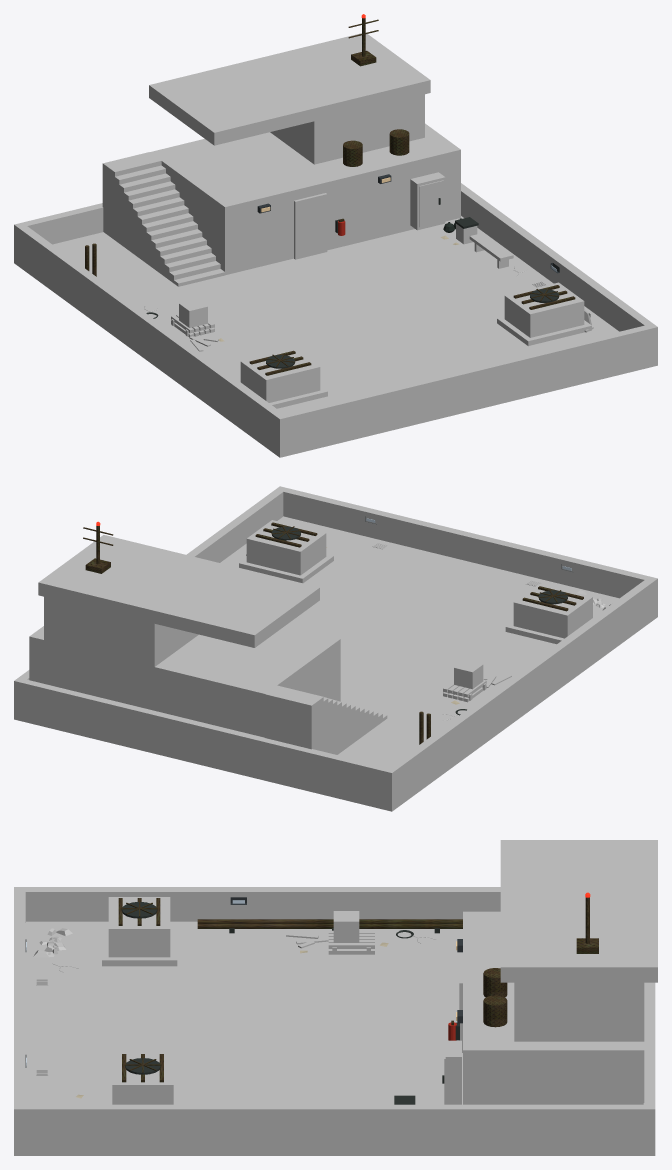
File: textured-office-rooftop-pbr.fbx
3 views of the same model, one above another, from view 1: azimuth 30°, elevation 25°; view 2: azimuth 150°, elevation 25°; view 3: azimuth 270°, elevation 25° (orthographic). The views are drawn at different scales.
Visible parts, largest first — view 1: deck, platform, cap, parapet, parapet.001, slab.001, parapet.002, core, aircon.001, aircon, parapet.003, door.001 (+14 smaller); view 2: deck, platform, cap, parapet.003, parapet, parapet.001, slab.001, core, landing.002, aircon.001, aircon, parapet.002 (+5 smaller); view 3: deck, parapet.002, cap, platform, parapet.001, slab.001, core, aircon, parapet, aircon.001, parapet.003, pipes.001 (+10 smaller).
Part boxes in pixels (x1,y1,x2,y2): deck: [52, 216, 618, 413]; platform: [150, 123, 460, 275]; cap: [149, 33, 430, 145]; parapet: [275, 323, 657, 444]; parapet.001: [18, 226, 282, 440]; slab.001: [14, 250, 657, 457]; parapet.002: [461, 183, 652, 331]; core: [270, 94, 424, 164]; aircon.001: [504, 282, 584, 337]; aircon: [240, 348, 320, 402]; parapet.003: [14, 203, 103, 253]; door.001: [294, 193, 327, 259]; deck: [220, 516, 619, 767]; platform: [29, 625, 340, 737]; cap: [38, 535, 319, 647]; parapet.003: [14, 677, 396, 798]; parapet: [275, 486, 657, 607]; parapet.001: [389, 580, 653, 794]; slab.001: [14, 604, 657, 811]; core: [44, 597, 198, 666]; landing.002: [265, 687, 321, 750]; aircon.001: [246, 520, 326, 575]; aircon: [513, 583, 592, 638]; parapet.002: [19, 490, 283, 679]; deck: [26, 921, 462, 1104]; parapet.002: [25, 1104, 643, 1140]; cap: [500, 840, 657, 982]; platform: [463, 911, 644, 1104]; parapet.001: [25, 887, 500, 922]; slab.001: [14, 923, 655, 1155]; core: [514, 982, 644, 1041]; aircon: [108, 897, 170, 957]; parapet: [14, 887, 25, 1140]; aircon.001: [112, 1053, 173, 1104]; parapet.003: [643, 982, 655, 1140]; pipes.001: [197, 923, 462, 933].
Size of the model in its own units: 1538 by 741 by 1882.
